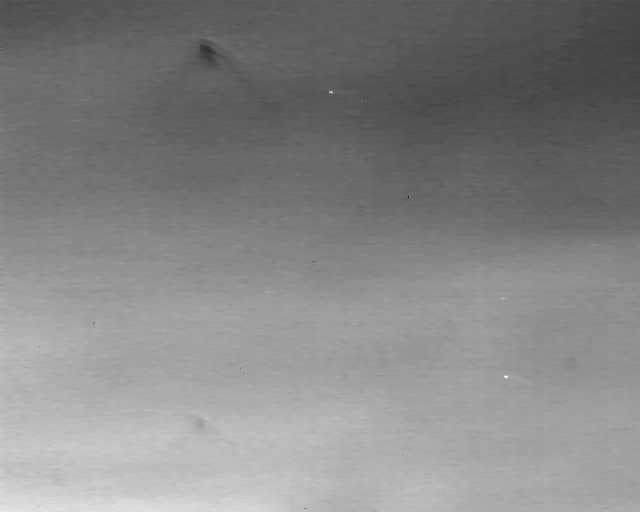Target: (329, 91, 335, 95), (505, 376, 509, 380)
